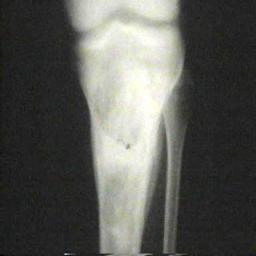cancer: (93, 55, 167, 146)
